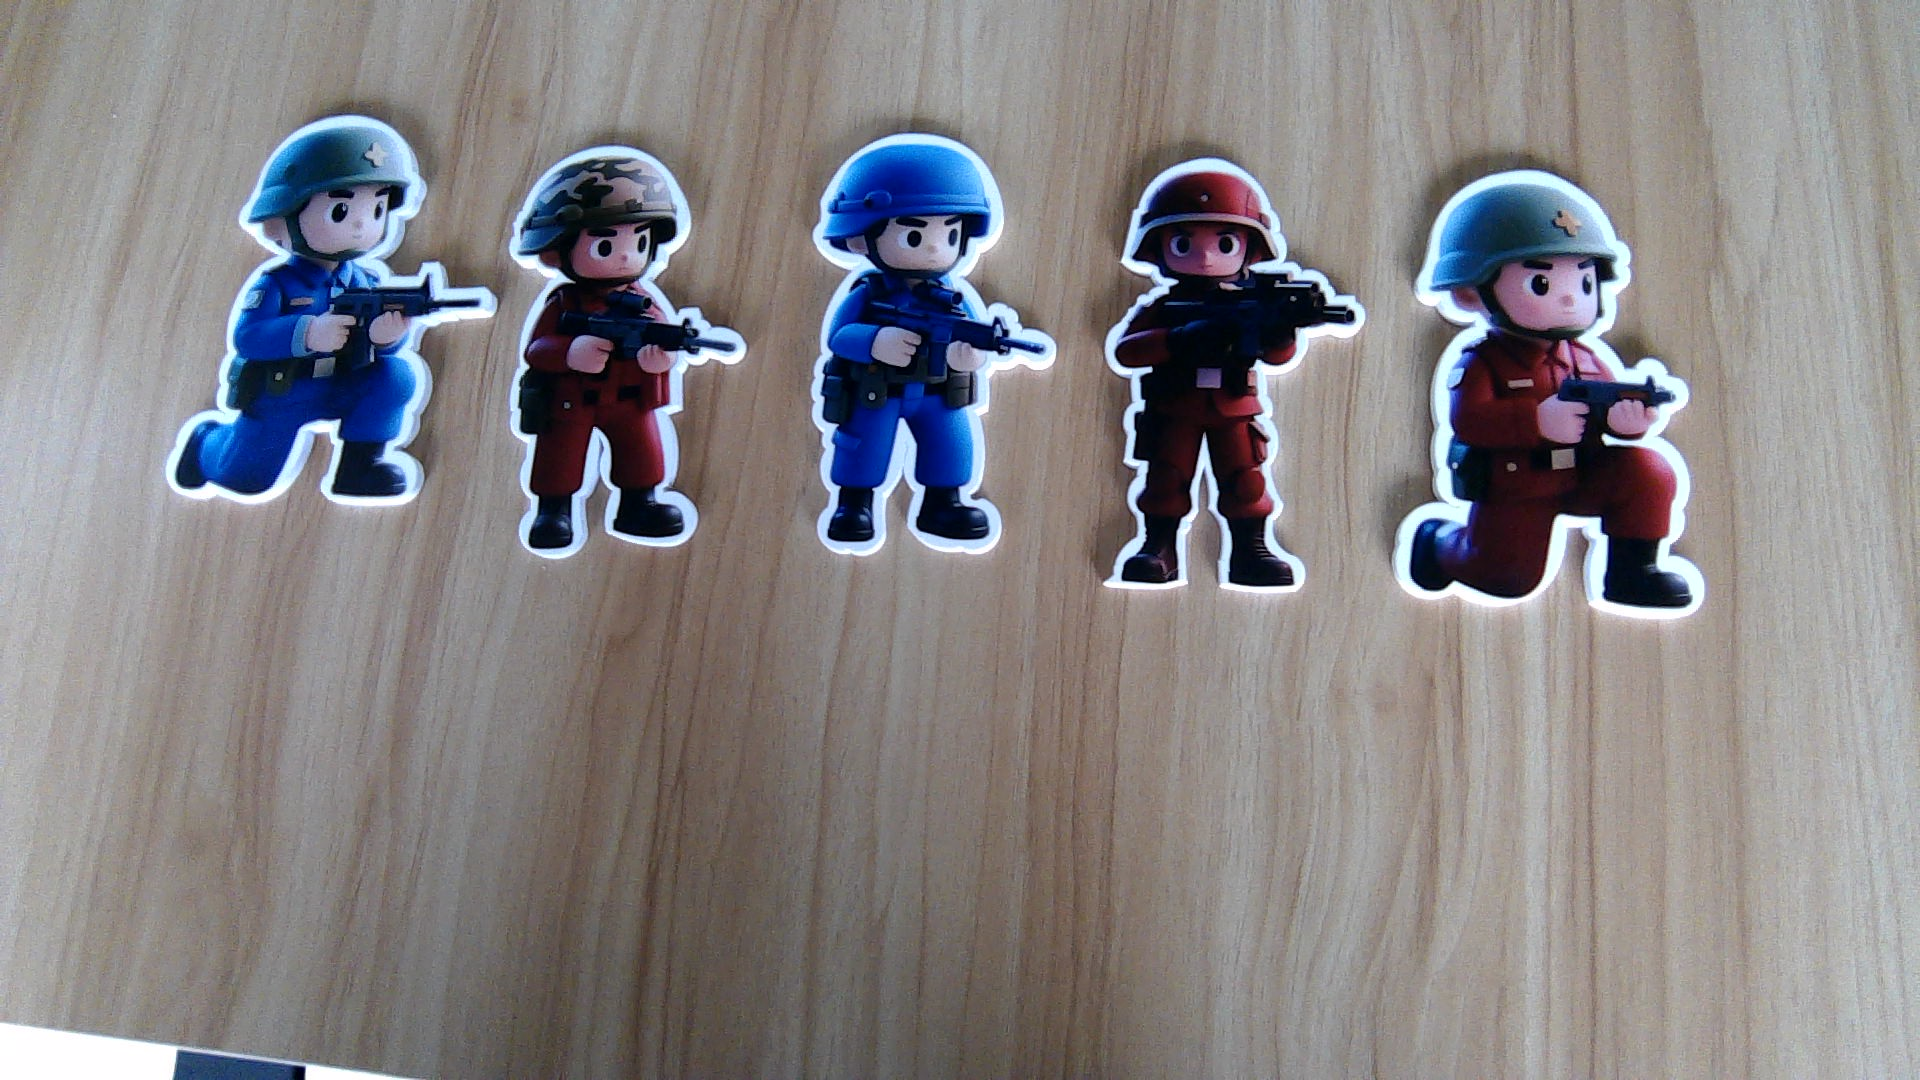敌人1: (1385, 339, 1716, 626), (1091, 280, 1361, 593), (509, 282, 749, 560)
敌人2: (161, 264, 485, 504), (803, 282, 1055, 560)
